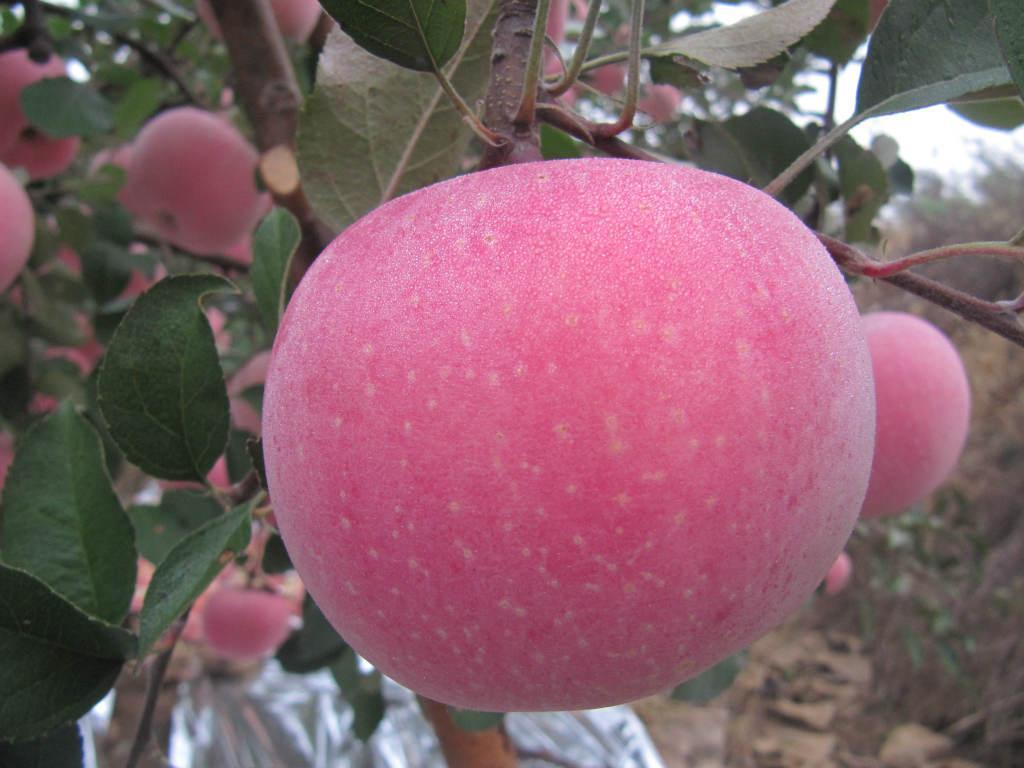apple: (258, 162, 873, 711)
